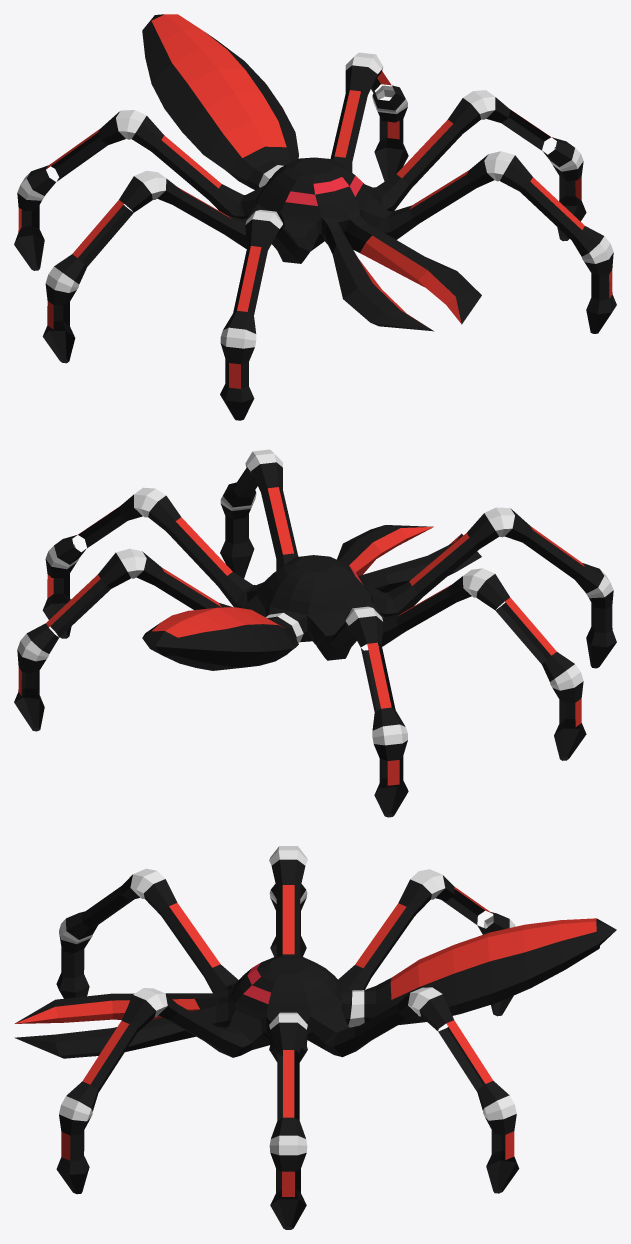
The model's file is EldrichHorror_MonsterV4(Painted).fbx.
3 renders of one model, top to bottom at view 1: azimuth 30°, elevation 25°; view 2: azimuth 150°, elevation 25°; view 3: azimuth 270°, elevation 25°, orthographic. The views are drawn at different scales.
Visible parts, largest first — view 1: Main; view 2: Main; view 3: Main.
Boxes of the visible parts, x1,y1,x2,y2 form: Main: (14, 14, 616, 420); Main: (14, 449, 616, 817); Main: (14, 846, 616, 1229).
Size of the model in its own units: 1093 by 345 by 1038.
